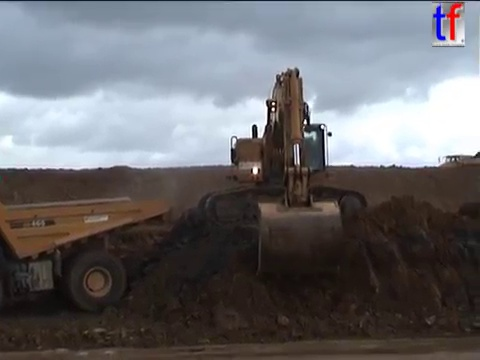excavator: (195, 64, 372, 280)
truck: (1, 194, 174, 315), (435, 153, 480, 179)
